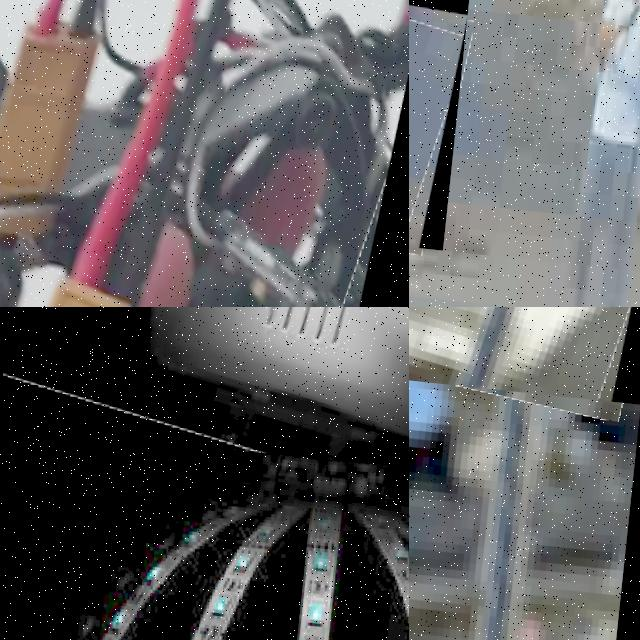drone: (0, 0, 409, 307), (0, 307, 409, 491), (409, 307, 640, 404), (409, 0, 469, 250)
